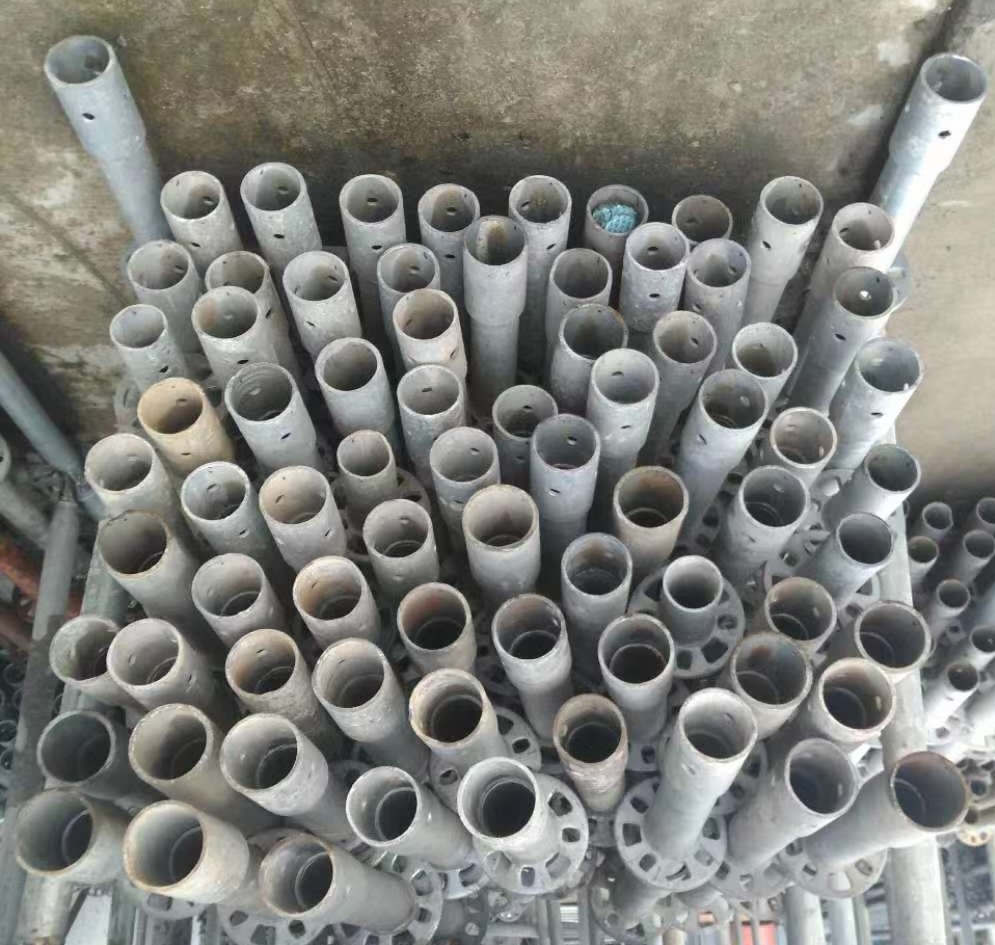block_circle_steel: (584, 183, 652, 239)
circle_steel: (120, 799, 206, 893), (452, 755, 539, 842), (886, 748, 972, 832), (12, 788, 93, 874), (256, 831, 335, 919), (216, 712, 300, 793), (32, 708, 119, 786), (723, 632, 813, 706), (128, 703, 210, 783), (342, 763, 419, 847), (102, 614, 182, 694), (677, 684, 757, 764), (815, 656, 898, 733), (405, 669, 485, 747), (783, 736, 860, 817), (597, 611, 672, 687), (552, 691, 628, 765), (855, 598, 932, 671), (490, 590, 564, 665), (312, 638, 385, 714), (395, 582, 471, 655), (560, 530, 635, 602), (188, 551, 267, 619), (610, 465, 691, 531), (763, 574, 838, 645), (222, 629, 298, 699), (47, 612, 116, 688), (462, 483, 539, 551), (289, 556, 365, 624), (219, 361, 297, 426), (739, 462, 812, 529), (765, 405, 839, 471), (94, 510, 169, 575), (488, 379, 563, 443), (556, 299, 631, 362), (526, 412, 602, 474), (697, 367, 769, 432), (257, 463, 330, 527), (82, 432, 158, 493), (179, 458, 250, 523), (41, 31, 116, 92), (426, 424, 498, 486), (188, 284, 263, 343), (914, 51, 990, 109), (589, 345, 657, 409), (362, 498, 431, 561), (649, 307, 720, 368), (135, 376, 207, 435), (658, 554, 726, 615), (728, 320, 799, 378), (756, 172, 827, 229), (853, 336, 922, 394), (668, 189, 737, 246), (683, 234, 752, 290), (394, 363, 463, 419), (313, 336, 383, 391), (829, 200, 898, 255), (371, 240, 440, 295), (121, 239, 191, 293), (831, 511, 897, 568), (505, 170, 573, 225), (337, 173, 403, 229), (416, 182, 482, 238), (547, 247, 614, 302), (828, 264, 897, 317), (239, 161, 305, 216), (462, 214, 530, 267), (622, 220, 690, 273), (157, 170, 224, 223), (861, 439, 924, 495), (390, 288, 456, 341), (281, 250, 347, 302), (205, 248, 269, 296), (333, 429, 393, 480), (107, 303, 167, 351)
